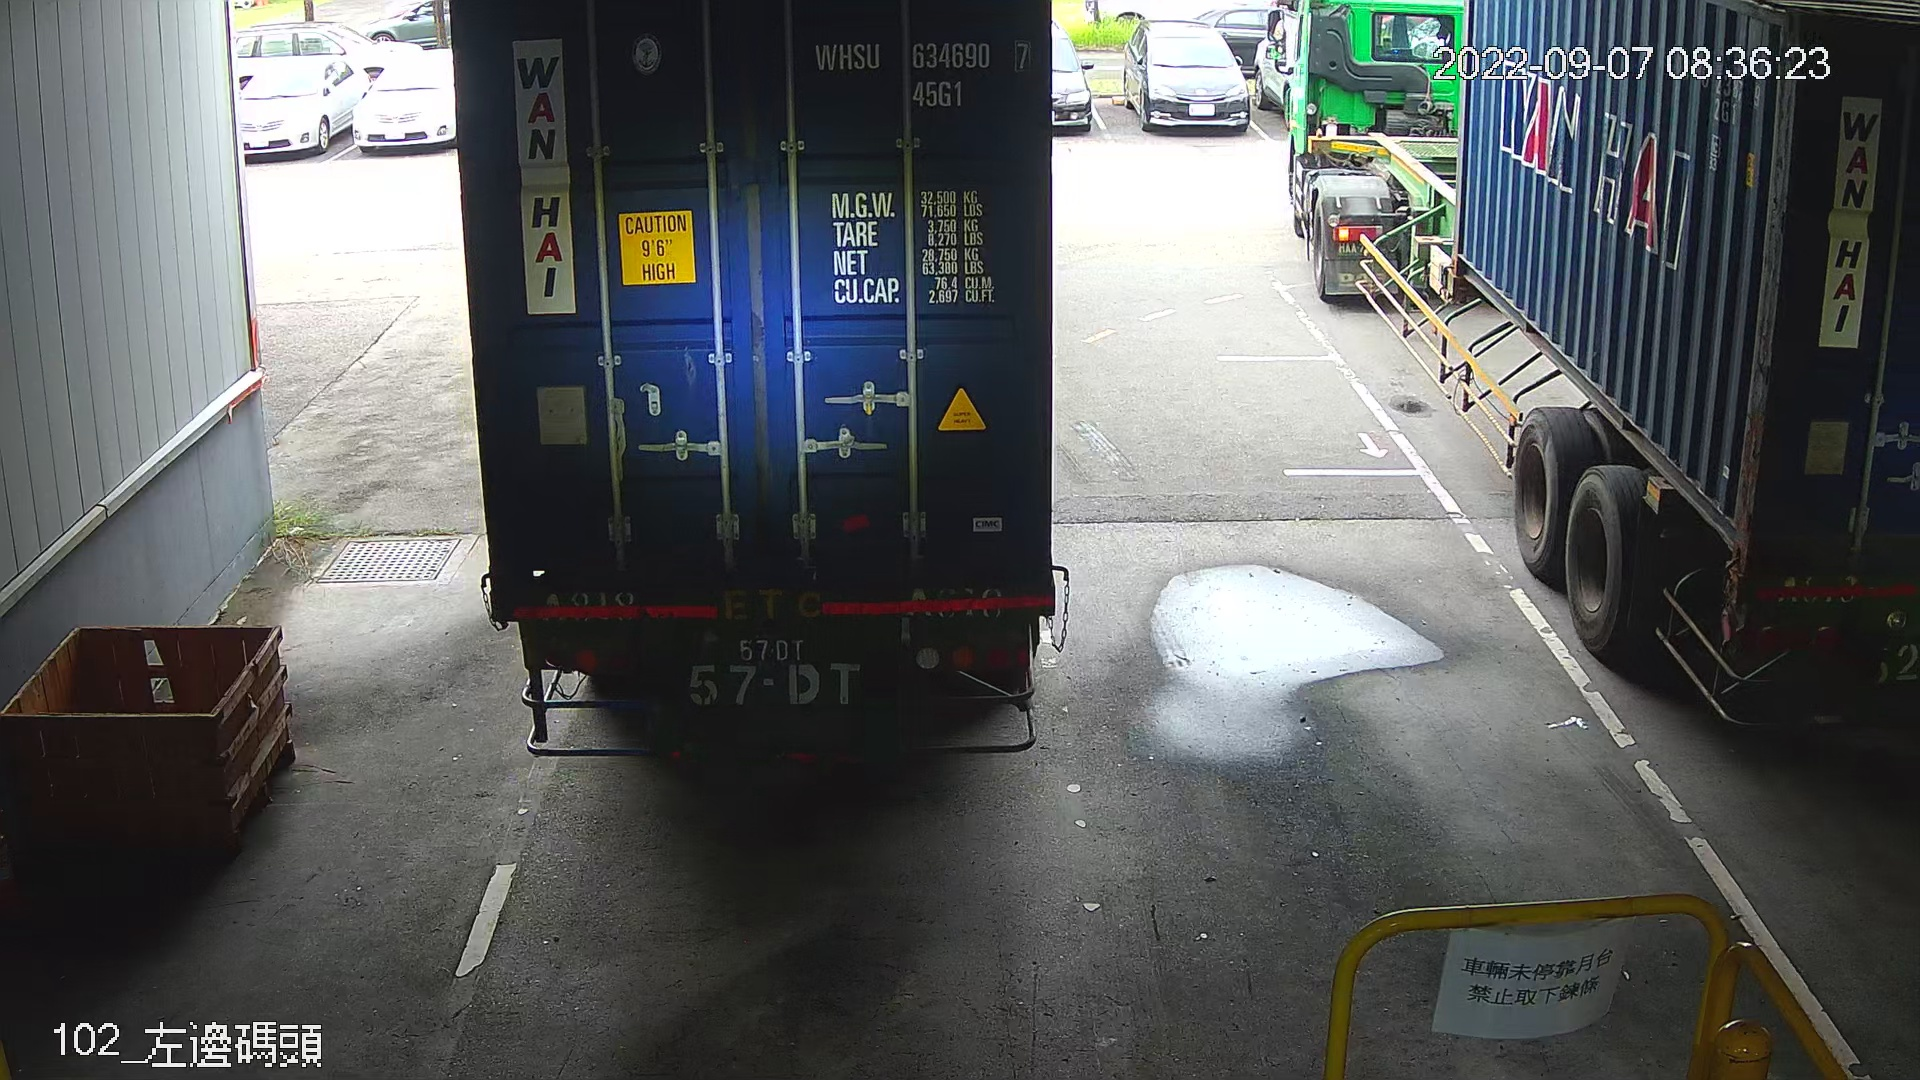container: (798, 30, 1044, 113)
